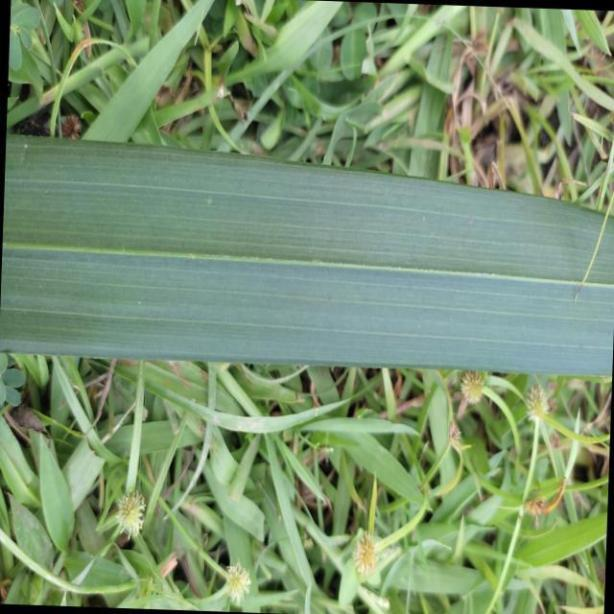Healthy: (3, 128, 614, 380)
